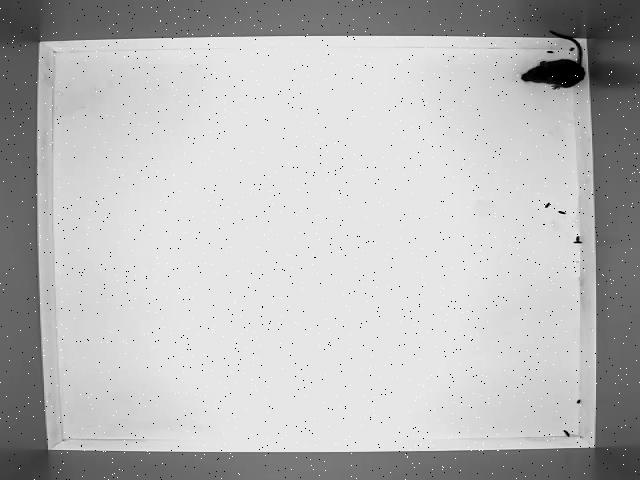Tikus: (519, 26, 588, 92)
